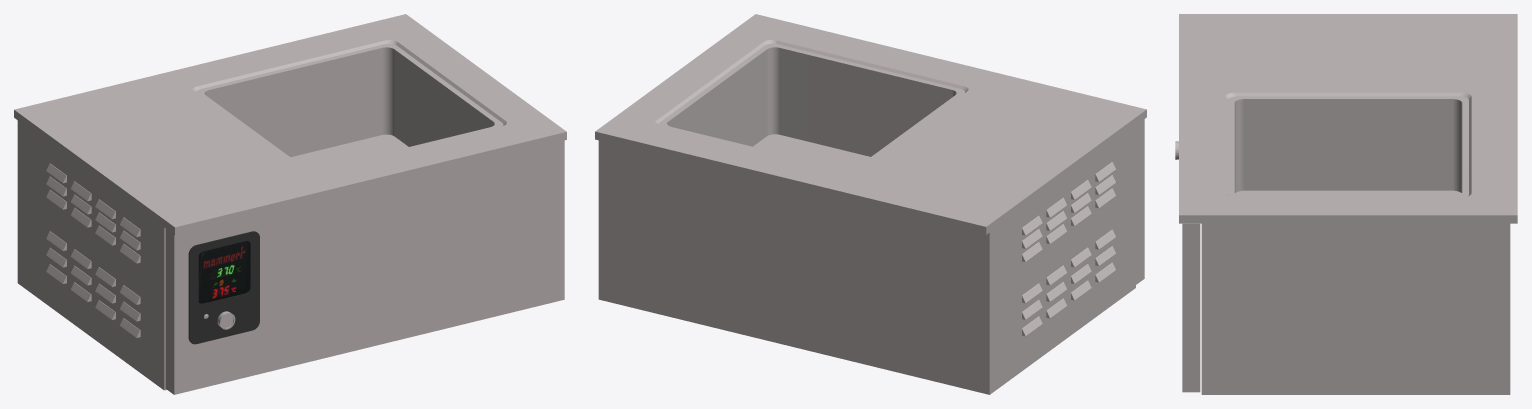
The model's file is water_bath.glb.
3 views of the same model, side by side, from view 1: azimuth 30°, elevation 25°; view 2: azimuth 150°, elevation 25°; view 3: azimuth 270°, elevation 25° (orthographic). The views are drawn at different scales.
Parts seen in each view (by area): view 1: pCube3, pCube2, pCube1, Display; view 2: pCube1, pCube3, pCube2; view 3: pCube3, pCube1, pCube2.
Boxes of the visible parts, left/top/right/bottom form: pCube3: left=14, top=14, right=566, bottom=235; pCube2: left=165, top=140, right=564, bottom=394; pCube1: left=17, top=120, right=166, bottom=390; Display: left=188, top=231, right=259, bottom=344; pCube1: left=598, top=124, right=1135, bottom=394; pCube3: left=595, top=14, right=1146, bottom=234; pCube2: left=1136, top=119, right=1144, bottom=284; pCube3: left=1179, top=14, right=1517, bottom=223; pCube1: left=1201, top=222, right=1510, bottom=394; pCube2: left=1182, top=223, right=1200, bottom=392.
Size of the model in its own units: 0.0997 by 0.0411 by 0.071.
Materials: 3 (1 with a texture image).
